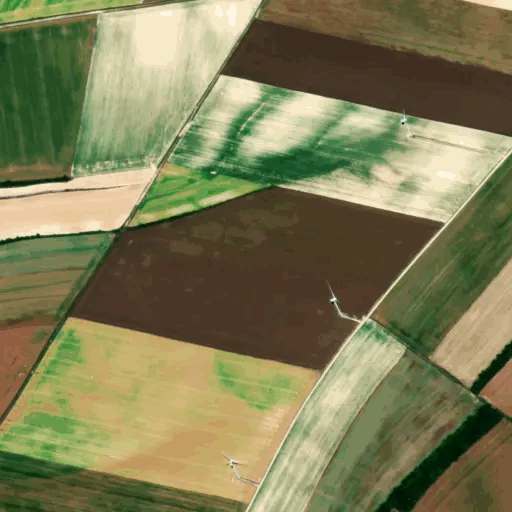wt: (220, 449, 256, 487), (397, 96, 419, 140), (325, 277, 346, 320)
